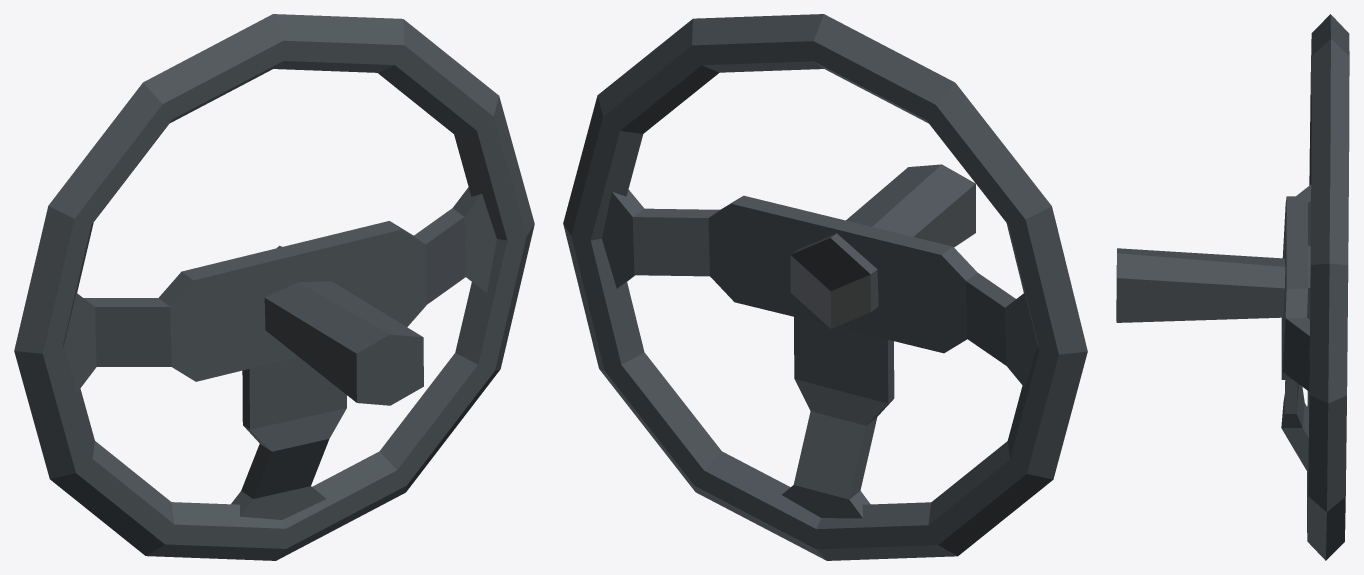
Rendered from SM_Veh_BigRig_SteeringW.obj.
The picture shows the model from 3 angles, left to right: view 1: azimuth 30°, elevation 25°; view 2: azimuth 150°, elevation 25°; view 3: azimuth 270°, elevation 25°; orthographic projection. The views are drawn at different scales.
Visible parts, largest first — view 1: SM_Veh_BigRig_SteeringW_0; view 2: SM_Veh_BigRig_SteeringW_0; view 3: SM_Veh_BigRig_SteeringW_0.
Boxes of the visible parts, x1=… form: SM_Veh_BigRig_SteeringW_0: x1=14, y1=14, x2=534, y2=560; SM_Veh_BigRig_SteeringW_0: x1=563, y1=14, x2=1087, y2=560; SM_Veh_BigRig_SteeringW_0: x1=1116, y1=14, x2=1349, y2=560.
Size of the model in its own units: 0.5056 by 0.5055 by 0.2147.
1 material, 1 textured.
